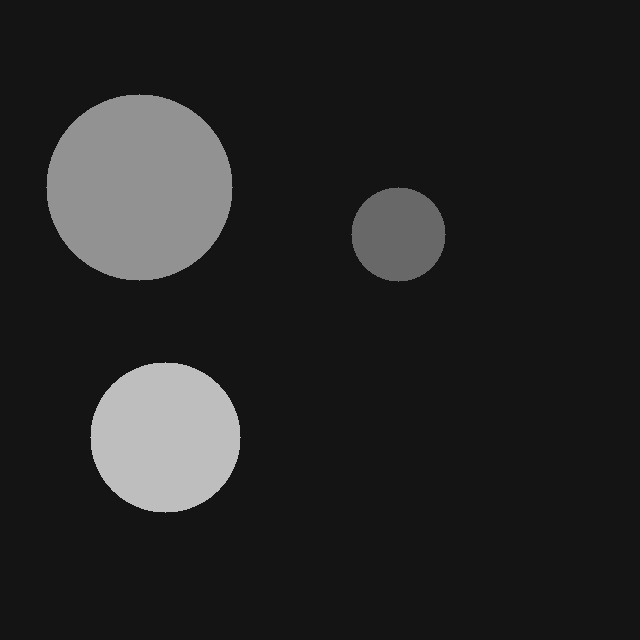circle: (46, 94, 232, 280), (90, 362, 240, 512), (351, 187, 445, 281)
